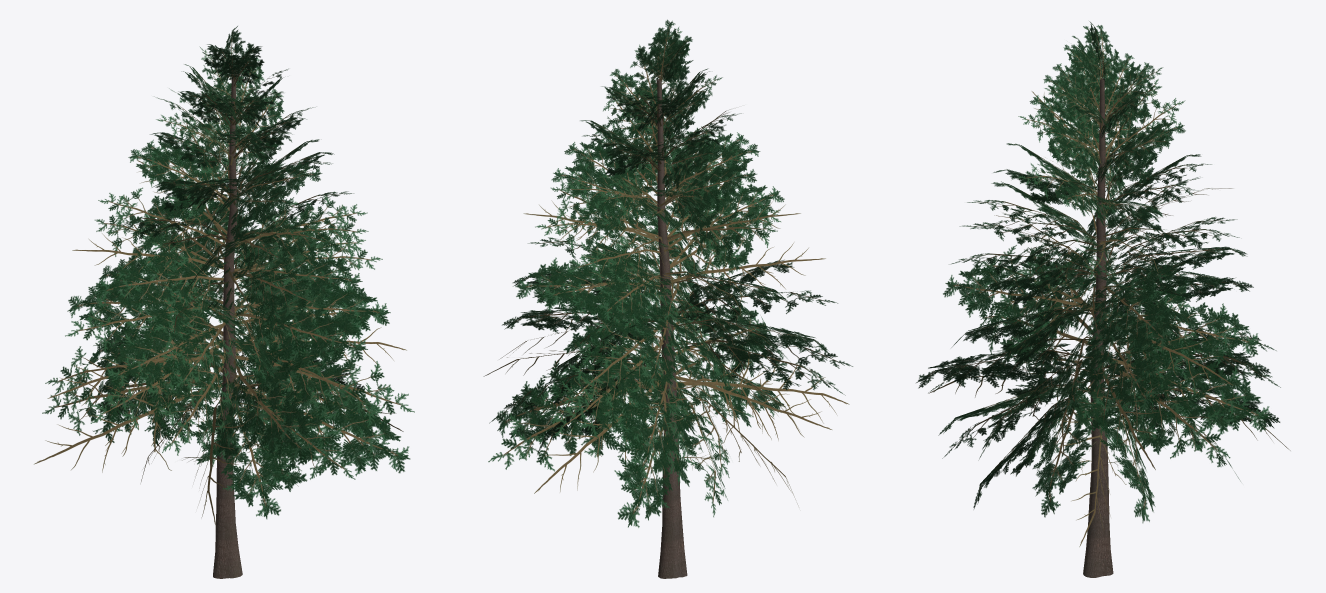
3 views of the same model, side by side, from view 1: azimuth 30°, elevation 25°; view 2: azimuth 150°, elevation 25°; view 3: azimuth 270°, elevation 25° (orthographic).
Parts seen in each view (by area): view 1: Pine_Tree_Lowpoly__2; view 2: Pine_Tree_Lowpoly__2; view 3: Pine_Tree_Lowpoly__2.
Part boxes in pixels (<box>): Pine_Tree_Lowpoly__2: <box>34,26,414,578</box>; Pine_Tree_Lowpoly__2: <box>483,19,852,578</box>; Pine_Tree_Lowpoly__2: <box>916,21,1290,577</box>.
Bounding box in the file's own units: 0.1864 × 0.2805 × 0.1898.
4 materials, 4 textured.
